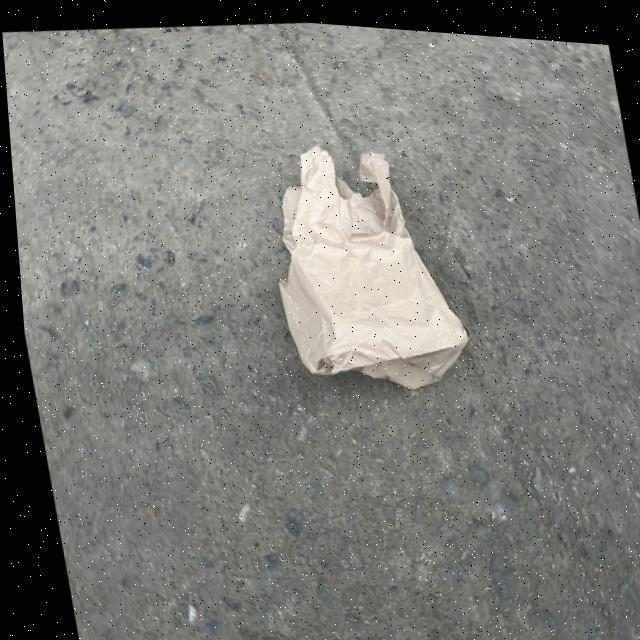Paper_Bag: (253, 129, 472, 400)
